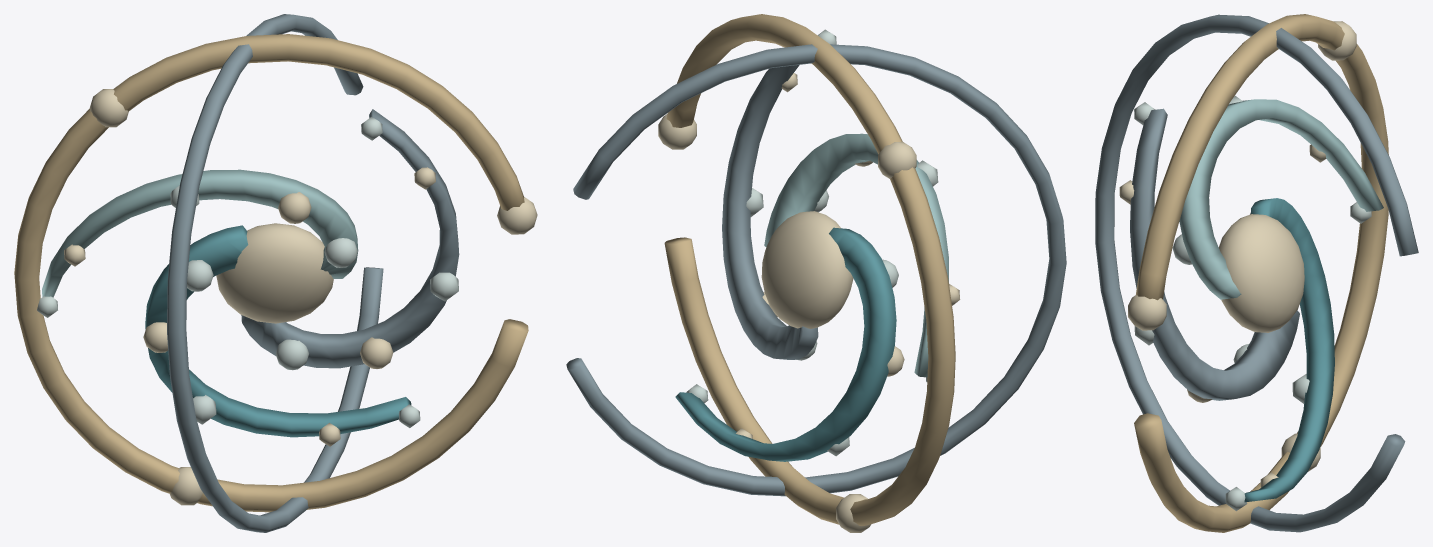
The model's file is ART-16.glb.
3 renders of one model, left to right at view 1: azimuth 30°, elevation 25°; view 2: azimuth 150°, elevation 25°; view 3: azimuth 270°, elevation 25°, orthographic.
Visible parts, largest first — view 1: world; view 2: world; view 3: world.
Boxes of the visible parts, x1,y1,x2,y2 form: world: (14,14,537,532); world: (566,14,1066,532); world: (1095,14,1418,532).
Bounding box in the file's own units: 1.8 × 2 × 1.23.
